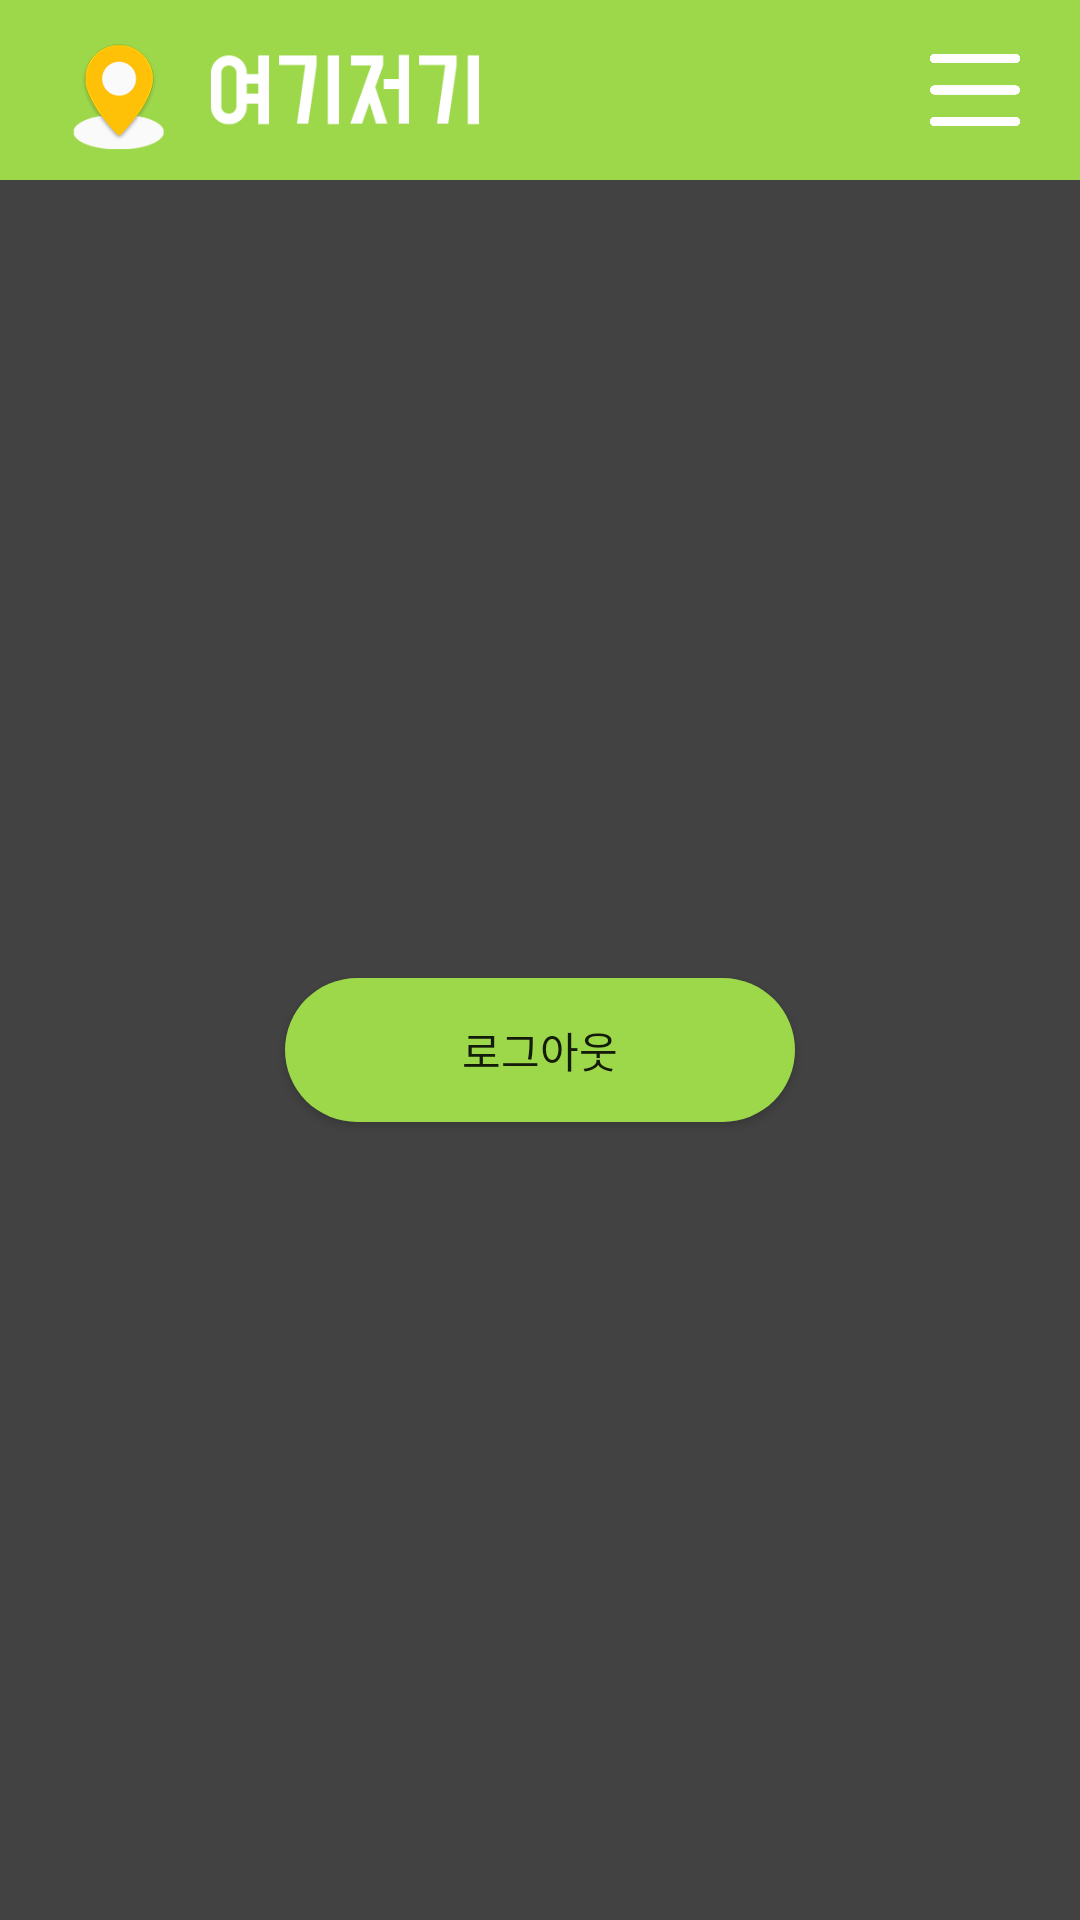

Named icons in this screenshot (1080*1920) and their bounding boxes, (x1, y1, x2, y2):
menu: (930, 54, 1020, 126)
